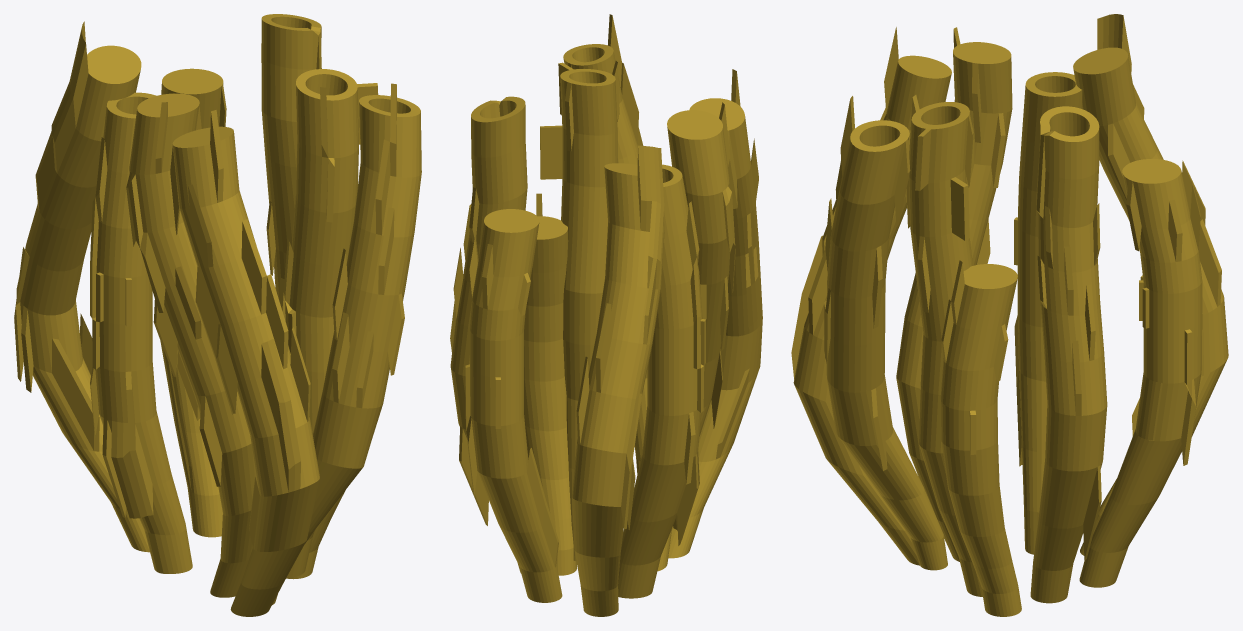
File: col_ot_gibi_birsey.fbx
3 renders of one model, left to right at view 1: azimuth 30°, elevation 25°; view 2: azimuth 150°, elevation 25°; view 3: azimuth 270°, elevation 25°, orthographic. The views are drawn at different scales.
Visible parts, largest first — view 1: Cylinder.006; view 2: Cylinder.006; view 3: Cylinder.006.
Boxes of the visible parts, x1,y1,x2,y2 form: Cylinder.006: (14, 14, 421, 616); Cylinder.006: (450, 14, 762, 616); Cylinder.006: (791, 14, 1228, 616).
Bounding box in the file's own units: 8.25 × 16.55 × 12.51.
